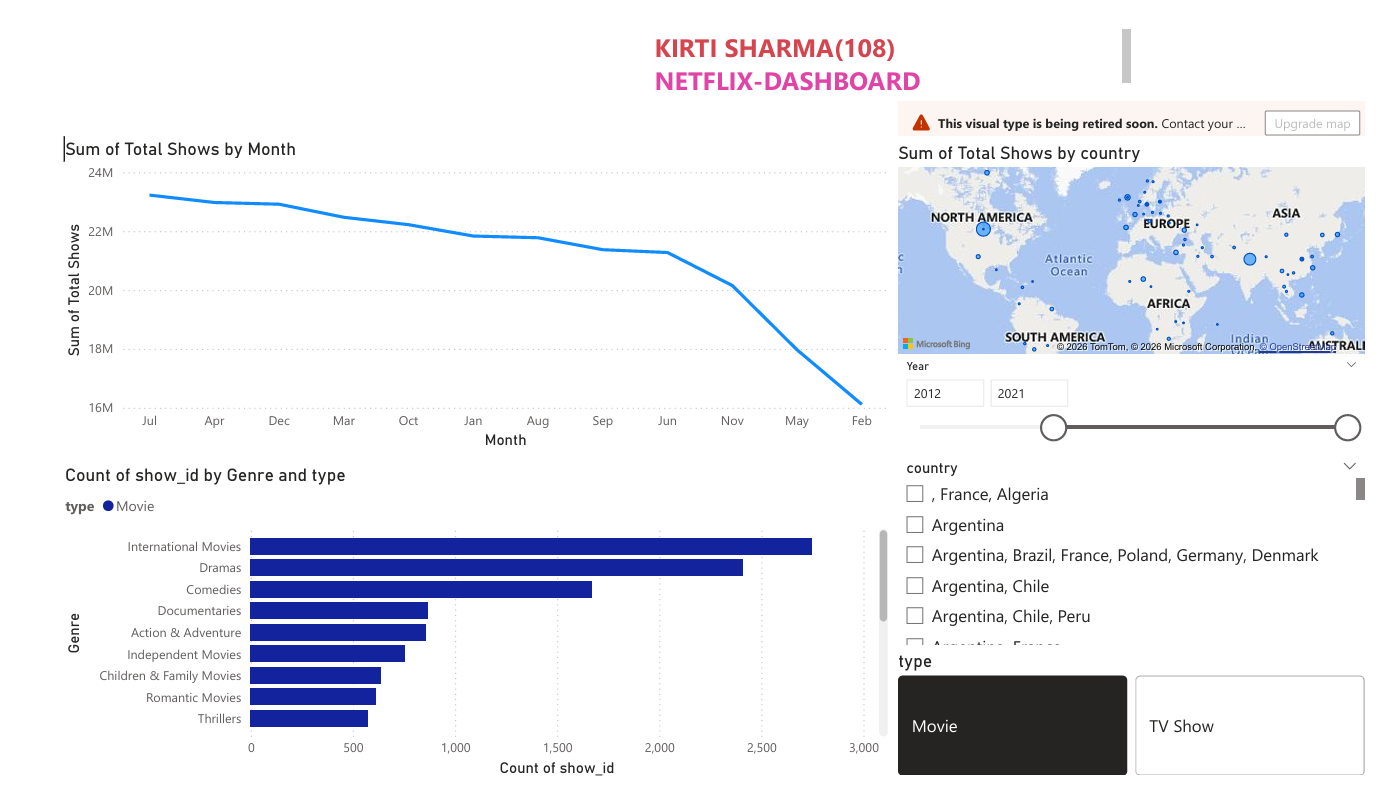

What the dashboard file says about the page in this screenshot:
{"tool":"powerbi","page":{"name":"Page 1","canvas":[1280,720],"ordinal":0},"visuals":[{"type":"textbox","box":[594.2,0,463.8,74.1],"z":0},{"type":"lineChart","fields":{"Category":["netflix_titles.Month"],"Y":["Sum(netflix_titles.Total Shows)"]},"box":[32.9,108.4,793.1,300.5],"z":1000},{"type":"barChart","fields":{"Category":["netflix_titles.Genre"],"Y":["CountNonNull(netflix_titles.show_id)"],"Series":["netflix_titles.type"]},"box":[33,419,793,301],"z":2000},{"type":"map","fields":{"Category":["netflix_titles.country"],"Size":["Sum(netflix_titles.Total Shows)"]},"box":[826.1,74.1,454.2,249.7],"z":3000},{"type":"slicer","fields":{"Values":["netflix_titles.Year"]},"box":[826.1,314.2,454.2,115.3],"z":4000},{"type":"slicer","fields":{"Values":["netflix_titles.country"]},"box":[826.1,408.9,454.2,186.6],"z":5000},{"type":"advancedSlicerVisual","fields":{"Values":["netflix_titles.type"]},"box":[826.1,595.5,454.2,124.9],"z":6000}]}

Visuals, with their boxes in screenshot pixels (x1, y1, x2, y2), scaled from the page's 1280x720 canvas onto the 1394x806 screenshot:
textbox: 647 0 1152 83
lineChart - netflix_titles.Month x Sum(netflix_titles.Total Shows): 36 121 900 458
barChart - netflix_titles.Genre x CountNonNull(netflix_titles.show_id): 36 469 900 805
map - netflix_titles.country x Sum(netflix_titles.Total Shows): 900 83 1393 362
slicer - netflix_titles.Year: 900 352 1393 481
slicer - netflix_titles.country: 900 458 1393 667
advancedSlicerVisual - netflix_titles.type: 900 667 1393 805
